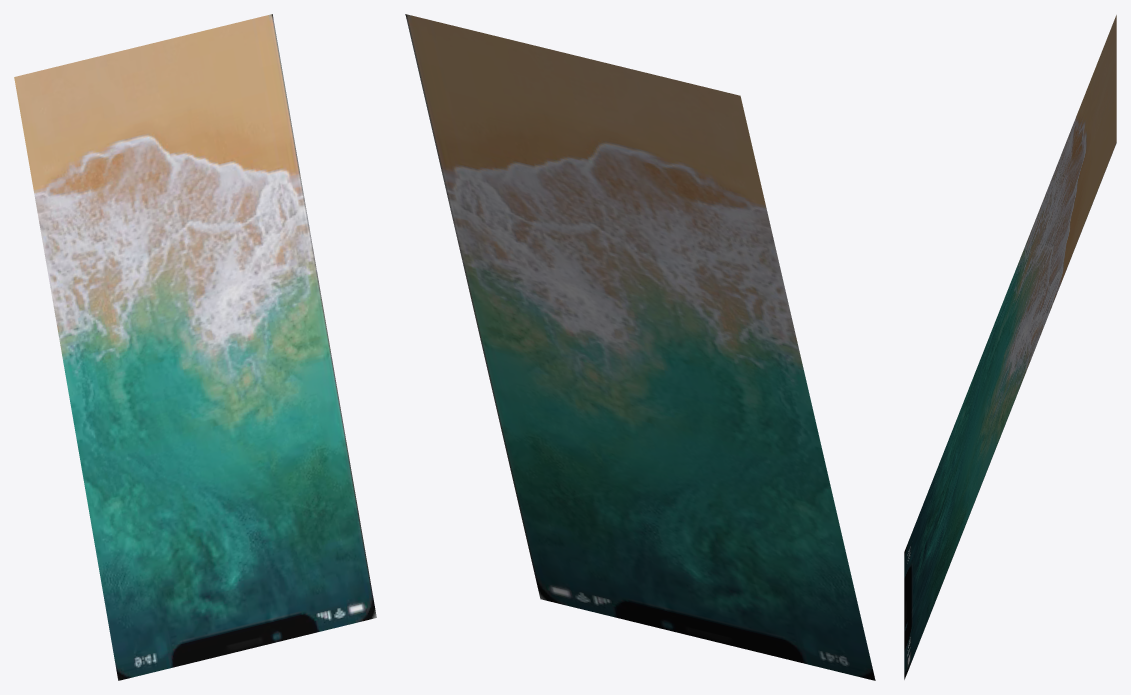
File: phoneScreen.glb
3 views of the same model, side by side, from view 1: azimuth 30°, elevation 25°; view 2: azimuth 150°, elevation 25°; view 3: azimuth 270°, elevation 25° (orthographic). The views are drawn at different scales.
Parts seen in each view (by area): view 1: mobileScreen; view 2: mobileScreen; view 3: mobileScreen.
Boxes of the visible parts, x1,y1,x2,y2 form: mobileScreen: (14,14,376,680); mobileScreen: (405,14,875,680); mobileScreen: (904,15,1116,679).
Bounding box in the file's own units: 0.4796 × 0.9353 × 0.3347.
Materials: 1 (1 with a texture image).
